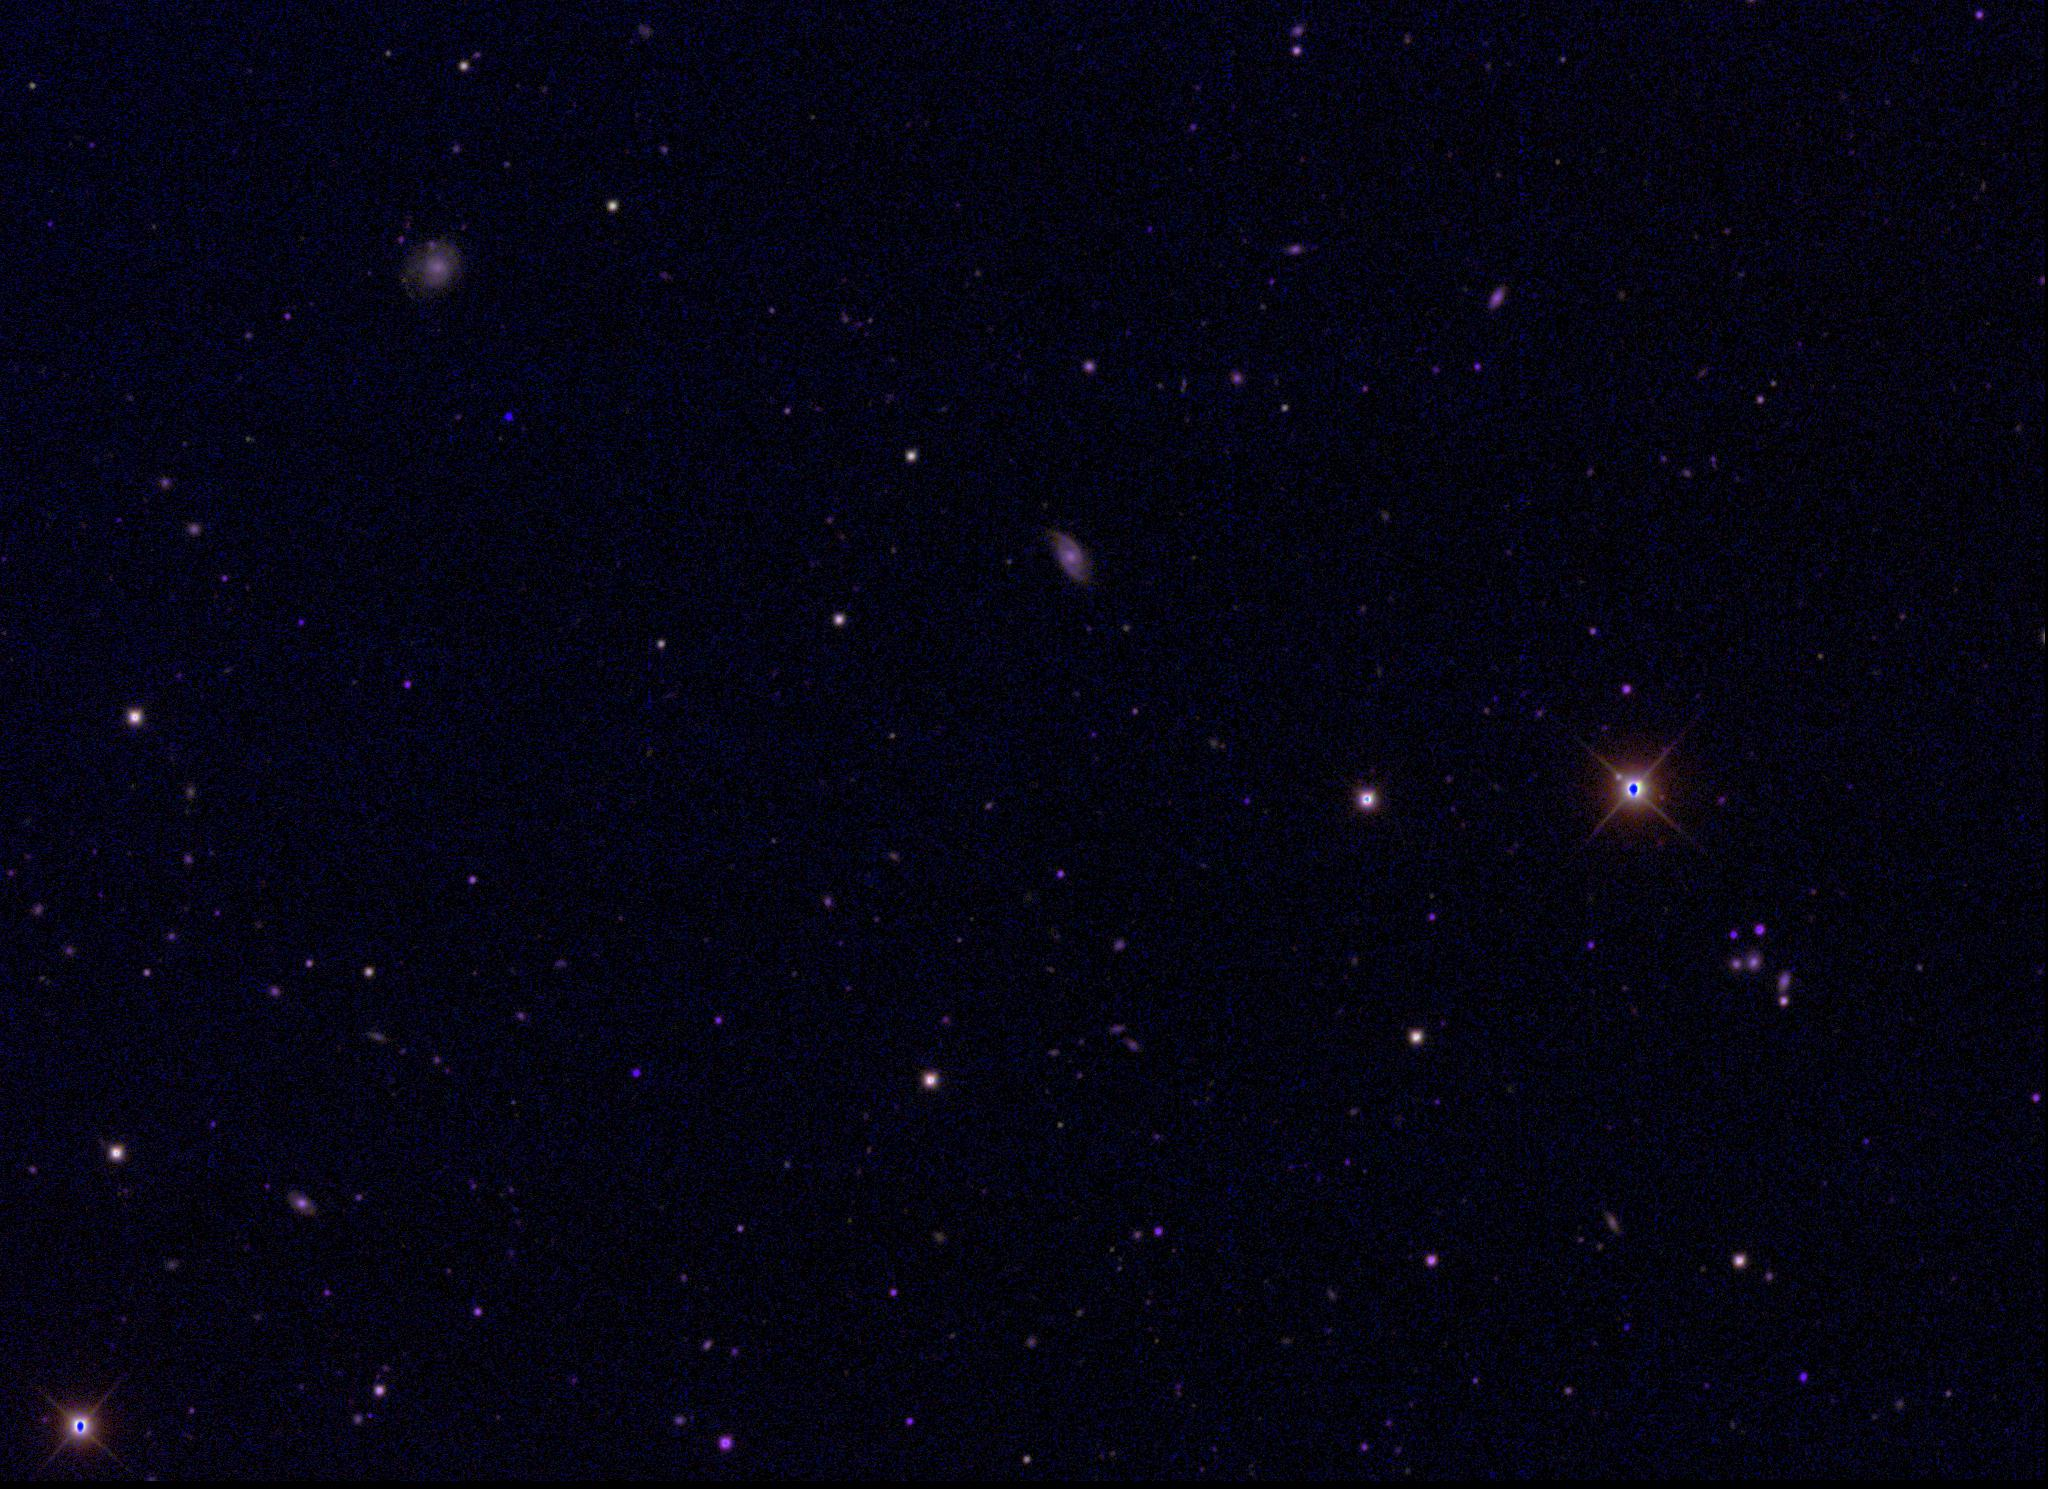L: (501, 410, 515, 425)
